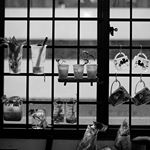cups: (107, 77, 131, 109), (132, 76, 150, 110), (112, 49, 130, 73), (131, 50, 150, 72)
